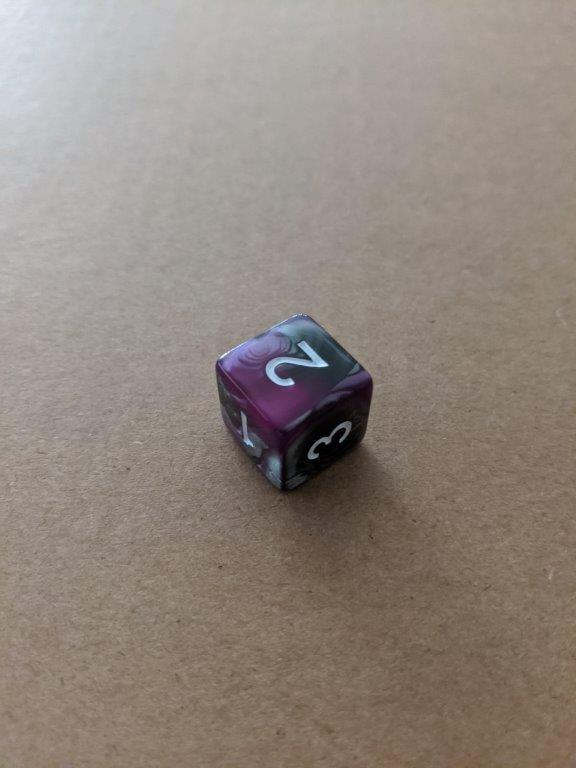d6-2: (214, 313, 376, 494)
